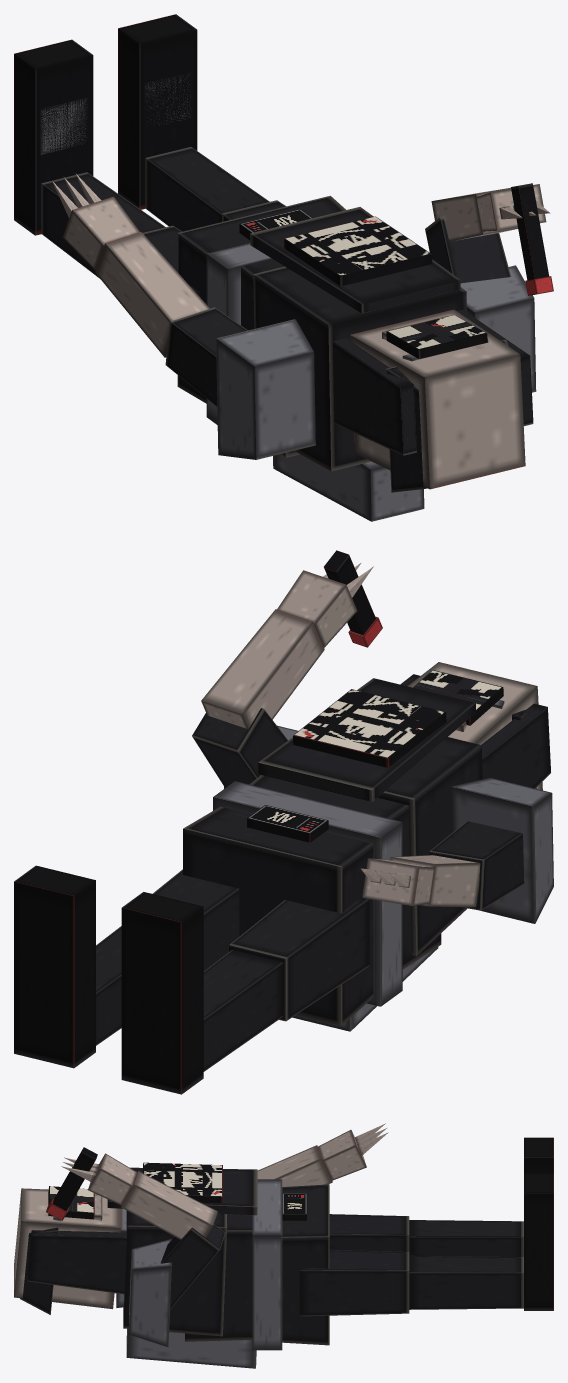
The model's file is redacth_neutral.obj.
3 views of the same model, one above another, from view 1: azimuth 30°, elevation 25°; view 2: azimuth 150°, elevation 25°; view 3: azimuth 270°, elevation 25° (orthographic). The views are drawn at different scales.
Visible parts, largest first — view 1: redacth_neutral; view 2: redacth_neutral; view 3: redacth_neutral.
Boxes of the visible parts, x1,y1,x2,y2 form: redacth_neutral: (14, 14, 553, 521); redacth_neutral: (14, 550, 553, 1094); redacth_neutral: (14, 1123, 553, 1368).
Size of the model in its own units: 0.4805 by 0.4932 by 1.
1 material, 1 textured.
